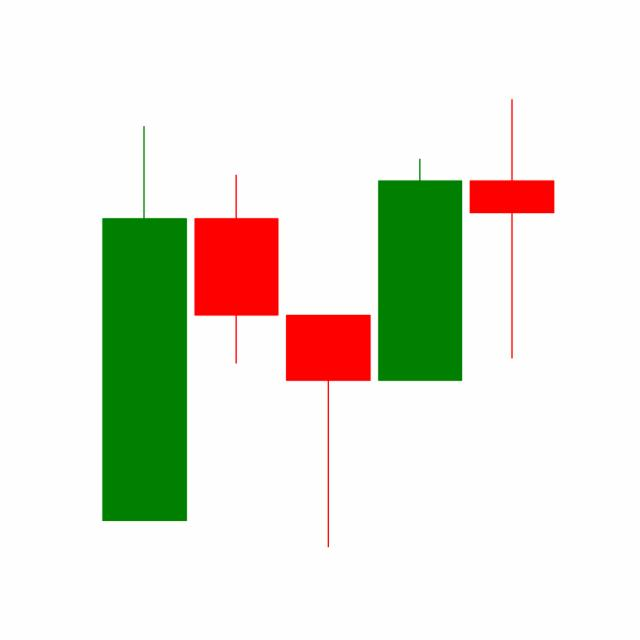Spinning Top: (464, 95, 558, 361)
